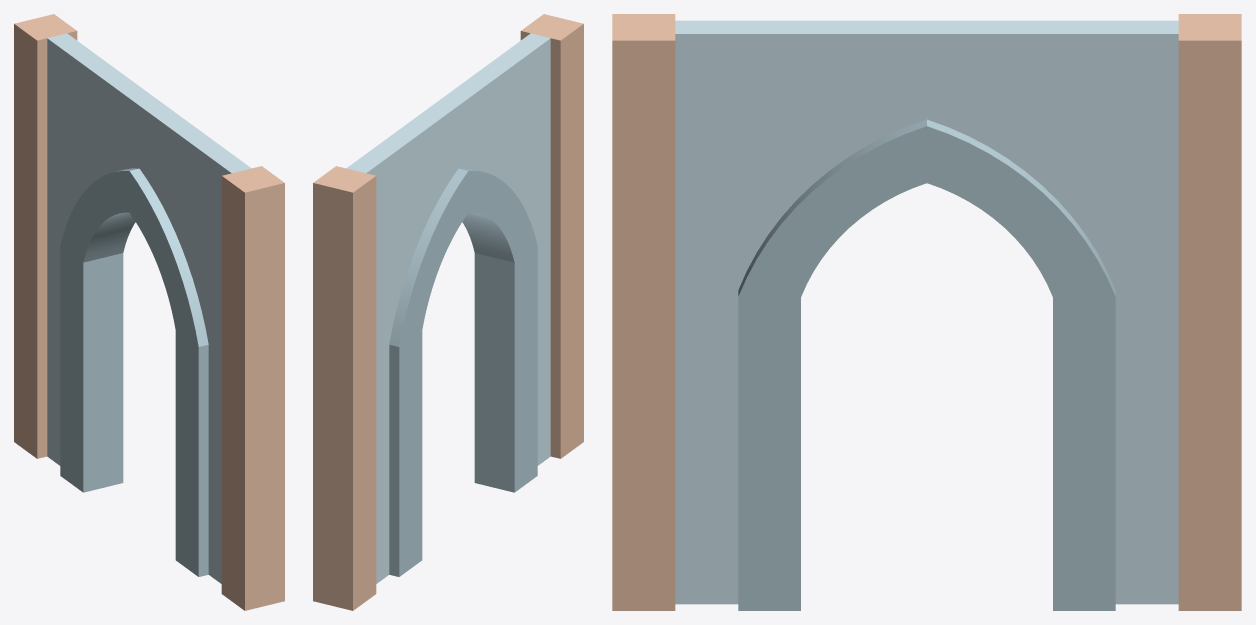
3 renders of one model, left to right at view 1: azimuth 30°, elevation 25°; view 2: azimuth 150°, elevation 25°; view 3: azimuth 270°, elevation 25°, orthographic. The views are drawn at different scales.
Visible parts, largest first — view 1: wallDoorwayRound; view 2: wallDoorwayRound; view 3: wallDoorwayRound.
Boxes of the visible parts, x1=… form: wallDoorwayRound: x1=14, y1=14, x2=284, y2=610; wallDoorwayRound: x1=313, y1=14, x2=583, y2=610; wallDoorwayRound: x1=612, y1=14, x2=1241, y2=610.
Size of the model in its own units: 0.1 by 1 by 1.
